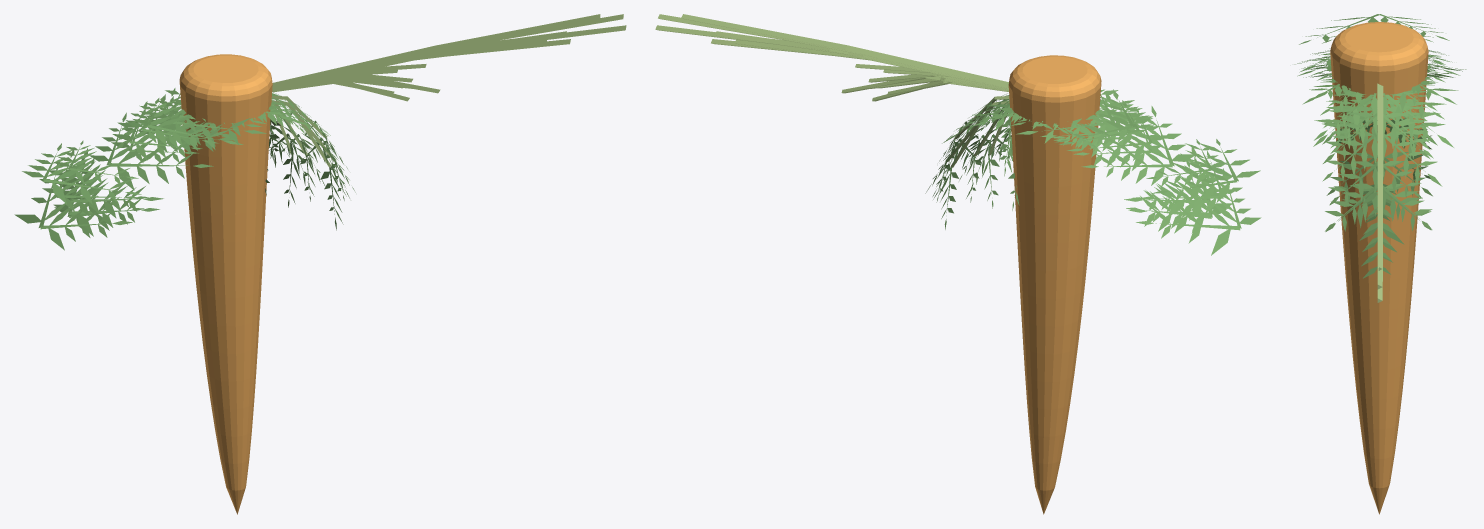
Rendered from carrot_harvest_v00.articulated.glb.
3 views of the same model, side by side, from view 1: azimuth 30°, elevation 25°; view 2: azimuth 150°, elevation 25°; view 3: azimuth 270°, elevation 25° (orthographic). The views are drawn at different scales.
Visible parts, largest first — view 1: root, leaf05_link2, leaf02_link2, leaf03_link2, leaf06_link2, leaf01_link0, leaf00_link2, leaf07_link2, leaf05_link0, leaf04_link2, leaf00_link0, leaf01_link2 (+2 smaller); view 2: root, leaf05_link2, leaf02_link2, leaf06_link2, leaf03_link2, leaf02_link0, leaf00_link2, leaf07_link2, leaf04_link2, leaf01_link2, leaf05_link0, leaf01_link0; view 3: root, leaf05_link2, leaf06_link2, leaf00_link2, leaf03_link2, leaf02_link2, leaf02_link0, leaf04_link2, leaf07_link2, leaf01_link2.
Boxes of the visible parts, bbox=[...] form: root: bbox=[179, 54, 272, 514]; leaf05_link2: bbox=[14, 90, 349, 250]; leaf02_link2: bbox=[22, 96, 322, 204]; leaf03_link2: bbox=[61, 101, 313, 218]; leaf06_link2: bbox=[42, 92, 347, 213]; leaf01_link0: bbox=[272, 14, 623, 88]; leaf00_link2: bbox=[54, 94, 355, 230]; leaf07_link2: bbox=[53, 98, 300, 185]; leaf05_link0: bbox=[272, 25, 626, 89]; leaf04_link2: bbox=[70, 88, 325, 217]; leaf00_link0: bbox=[272, 39, 570, 89]; leaf01_link2: bbox=[53, 96, 290, 236]; root: bbox=[1008, 55, 1101, 514]; leaf05_link2: bbox=[932, 90, 1261, 255]; leaf02_link2: bbox=[975, 92, 1260, 202]; leaf06_link2: bbox=[939, 93, 1237, 214]; leaf03_link2: bbox=[969, 89, 1219, 220]; leaf02_link0: bbox=[681, 14, 1008, 87]; leaf00_link2: bbox=[925, 89, 1227, 233]; leaf07_link2: bbox=[977, 100, 1225, 186]; leaf04_link2: bbox=[959, 95, 1206, 218]; leaf01_link2: bbox=[986, 95, 1231, 231]; leaf05_link0: bbox=[655, 25, 1008, 88]; leaf01_link0: bbox=[658, 14, 1008, 87]; root: bbox=[1330, 22, 1428, 514]; leaf05_link2: bbox=[1294, 55, 1466, 278]; leaf06_link2: bbox=[1310, 50, 1448, 230]; leaf00_link2: bbox=[1307, 59, 1453, 260]; leaf03_link2: bbox=[1311, 58, 1439, 222]; leaf02_link2: bbox=[1299, 14, 1449, 149]; leaf02_link0: bbox=[1377, 83, 1383, 270]; leaf04_link2: bbox=[1321, 63, 1447, 219]; leaf07_link2: bbox=[1316, 25, 1445, 144]; leaf01_link2: bbox=[1303, 65, 1446, 182].
Bounding box in the file's own units: 0.263 × 0.1922 × 0.0664.
Materials: 1 (1 with a texture image).
